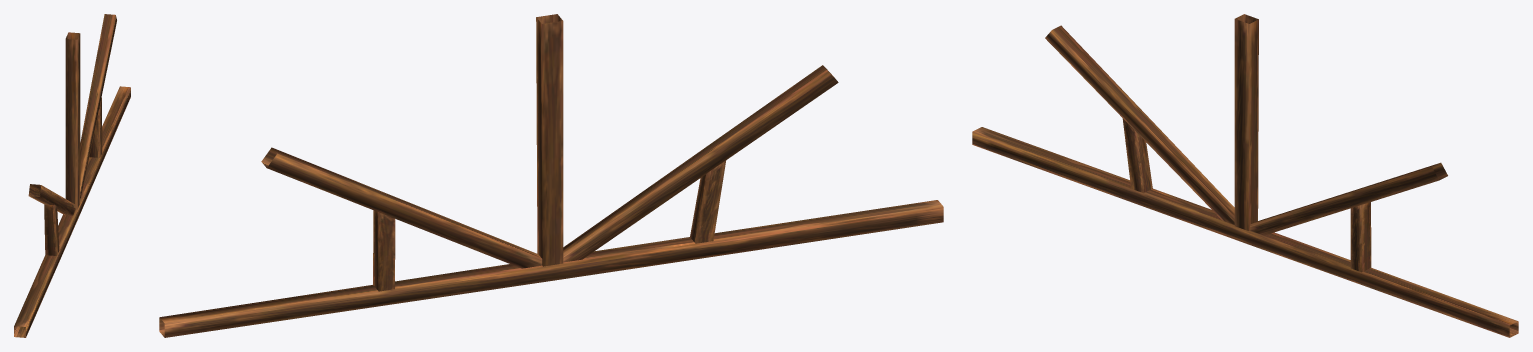
The model's file is SWORDLIGHT20_JAILCEILBRACKET21.fbx.
The picture shows the model from 3 angles, left to right: view 1: azimuth 30°, elevation 25°; view 2: azimuth 150°, elevation 25°; view 3: azimuth 270°, elevation 25°; orthographic projection. The views are drawn at different scales.
Visible parts, largest first — view 1: SWORDLIGHT20_JAILCEILBRACKET21; view 2: SWORDLIGHT20_JAILCEILBRACKET21; view 3: SWORDLIGHT20_JAILCEILBRACKET21.
Boxes of the visible parts, <box> form: SWORDLIGHT20_JAILCEILBRACKET21: <box>14,14,130,337</box>; SWORDLIGHT20_JAILCEILBRACKET21: <box>159,14,943,337</box>; SWORDLIGHT20_JAILCEILBRACKET21: <box>972,14,1518,337</box>.
Bounding box in the file's own units: 95650 × 49666 × 111298.
1 material, 1 textured.
